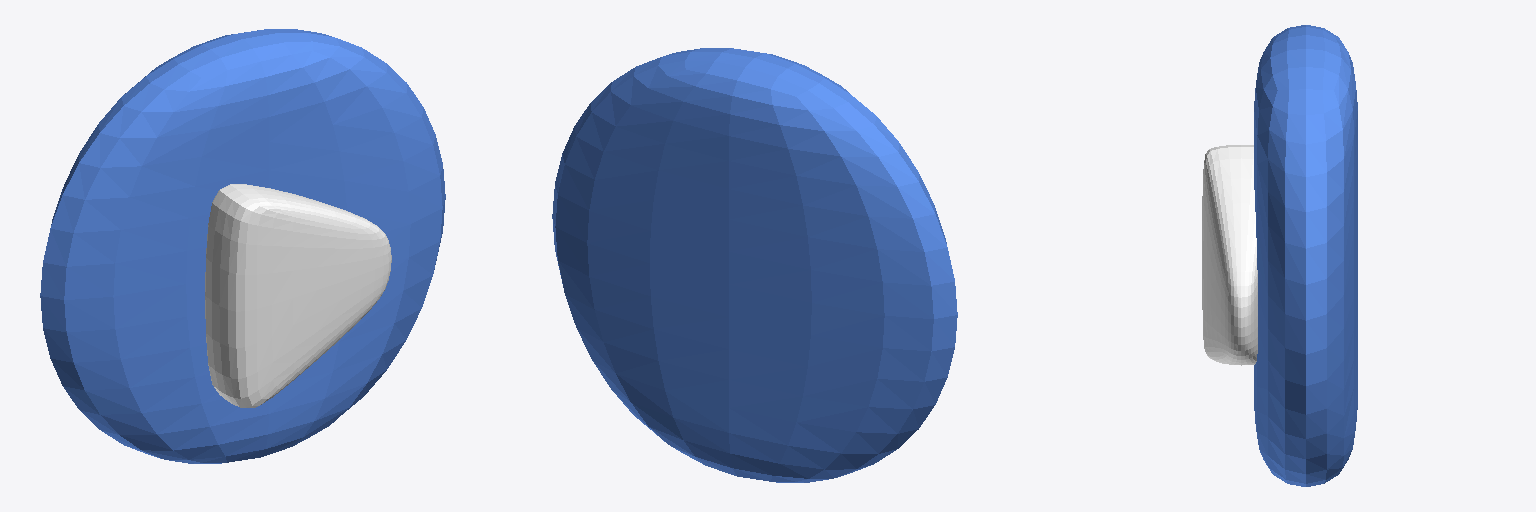
Rendered from botonR.obj.
3 renders of one model, left to right at view 1: azimuth 30°, elevation 25°; view 2: azimuth 150°, elevation 25°; view 3: azimuth 270°, elevation 25°, orthographic.
Parts seen in each view (by area): view 1: polySurface3; view 2: polySurface3; view 3: polySurface3.
Boxes of the visible parts, box(x1,y1,x2,y2) form: polySurface3: box(40, 29, 445, 463); polySurface3: box(552, 48, 957, 482); polySurface3: box(1202, 25, 1357, 486).
Size of the model in its own units: 1.76 by 1.72 by 0.5867.